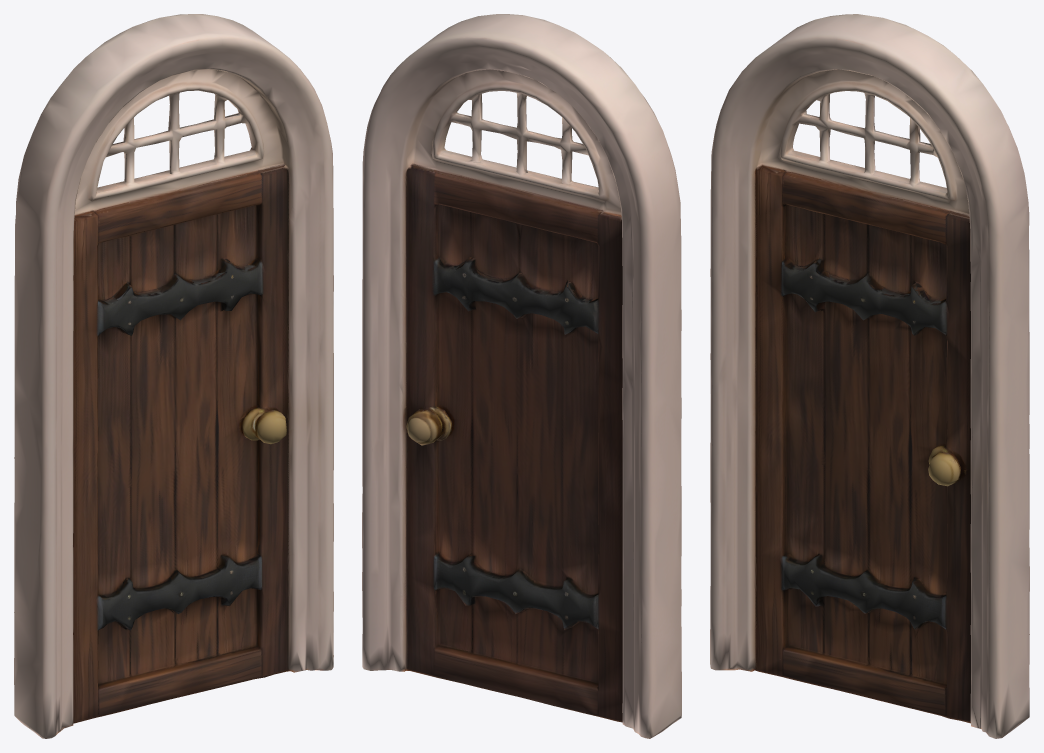
The model's file is door_1211081415_texture.fbx.
3 views of the same model, side by side, from view 1: azimuth 30°, elevation 25°; view 2: azimuth 150°, elevation 25°; view 3: azimuth 330°, elevation 25° (orthographic).
Parts seen in each view (by area): view 1: Mesh_0; view 2: Mesh_0; view 3: Mesh_0.
Boxes of the visible parts, x1,y1,x2,y2 form: Mesh_0: (14,14,333,738); Mesh_0: (362,14,681,738); Mesh_0: (710,14,1029,738).
Bounding box in the file's own units: 87.78 × 192 × 19.81.
Materials: 1 (1 with a texture image).
